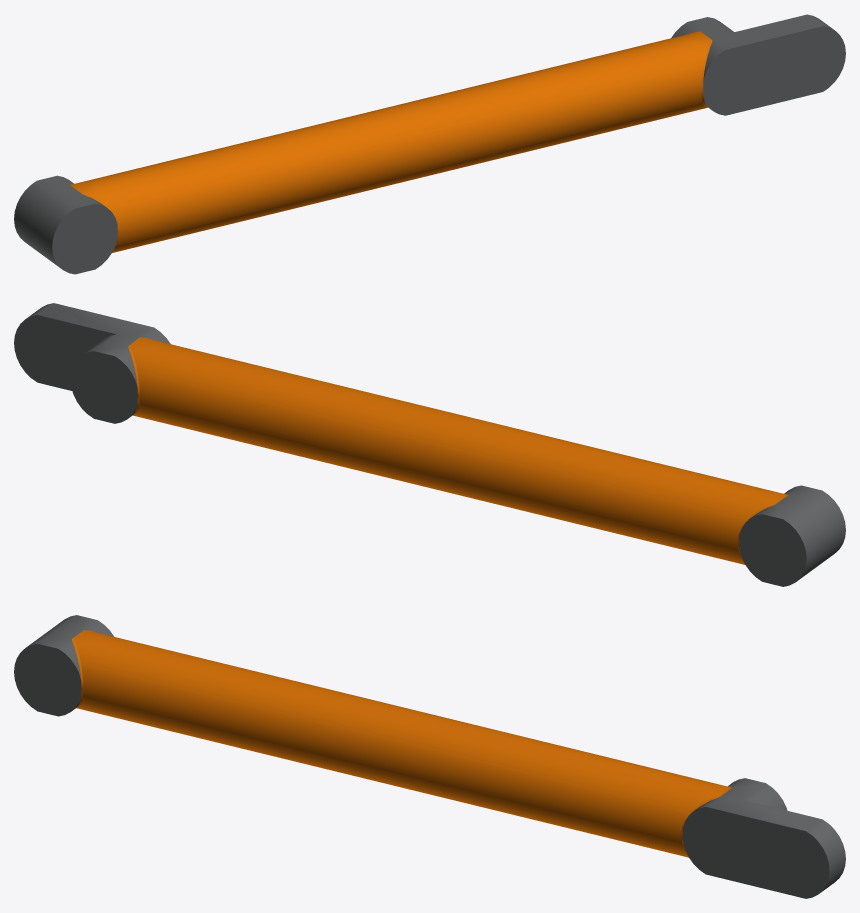
The picture shows the model from 3 angles, top to bottom: view 1: azimuth 30°, elevation 25°; view 2: azimuth 150°, elevation 25°; view 3: azimuth 330°, elevation 25°; orthographic projection. The views are drawn at different scales.
Visible parts, largest first — view 1: c3_LOD0, c3_col; view 2: c3_LOD0, c3_col; view 3: c3_LOD0, c3_col.
Part boxes in pixels (<box>): c3_LOD0: <box>14,14,845,274</box>; c3_col: <box>38,16,845,274</box>; c3_LOD0: <box>14,303,845,586</box>; c3_col: <box>14,303,820,586</box>; c3_LOD0: <box>14,615,845,898</box>; c3_col: <box>15,615,829,892</box>.
Size of what is drawn, in the model's own units: 144 by 11.93 by 12.
